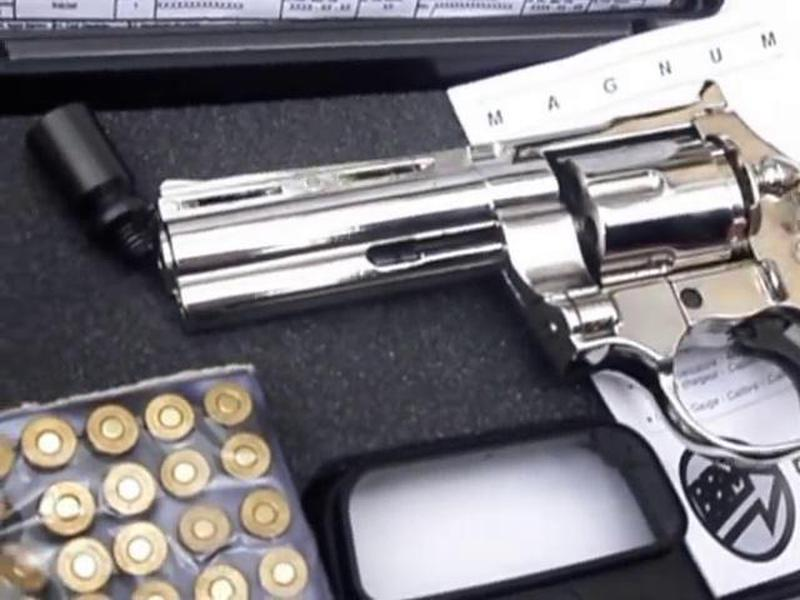Revolver: (156, 111, 800, 461)
